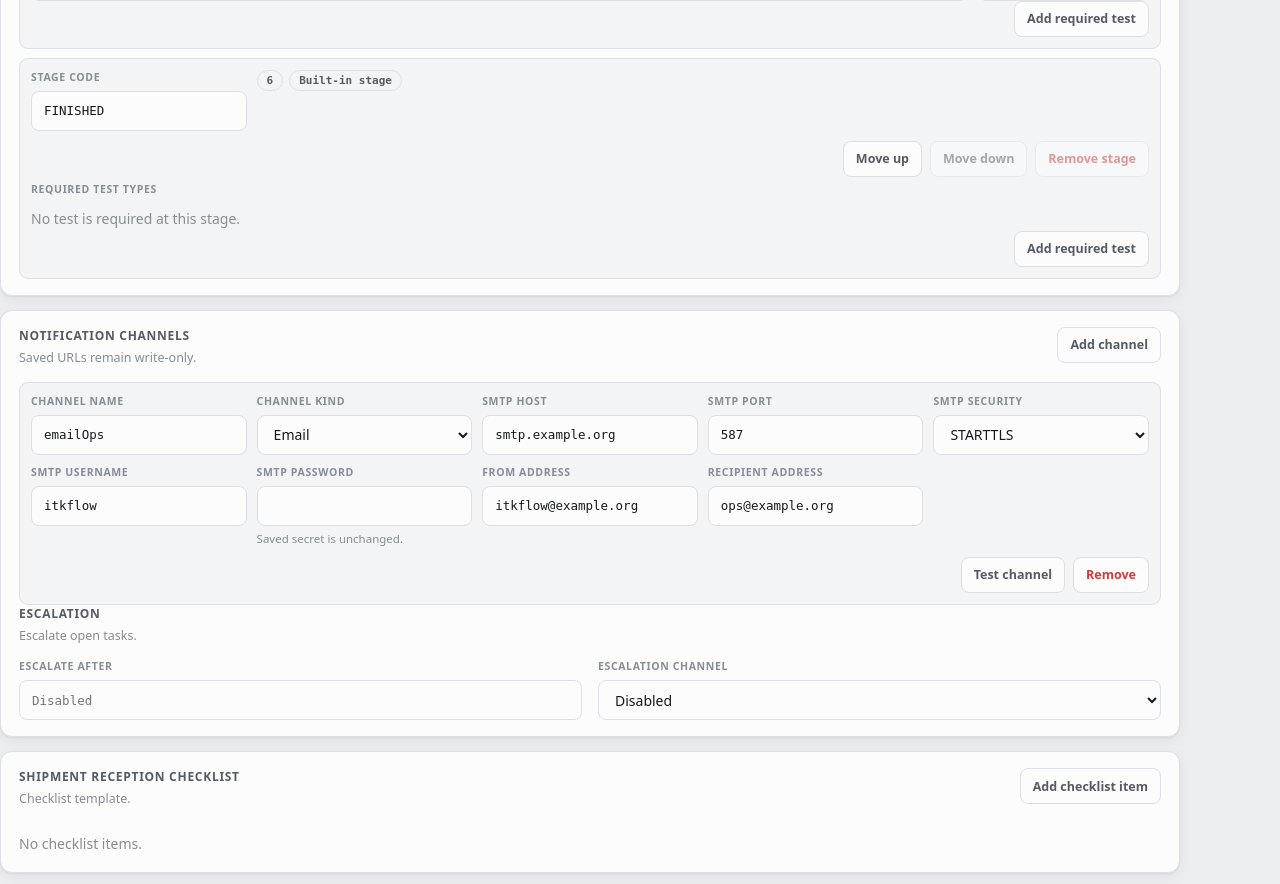
Test: AdminSettingsScreen notification secrets › requires a fresh SMTP password when the saved connection target changes
The width and height of the screenshot is (1280, 884).
(page scrolled)
Replace the text in the field labelled "SMTP host" with "attacker.example.org" at (590, 434), box [482, 414, 698, 454]
(page scrolled)
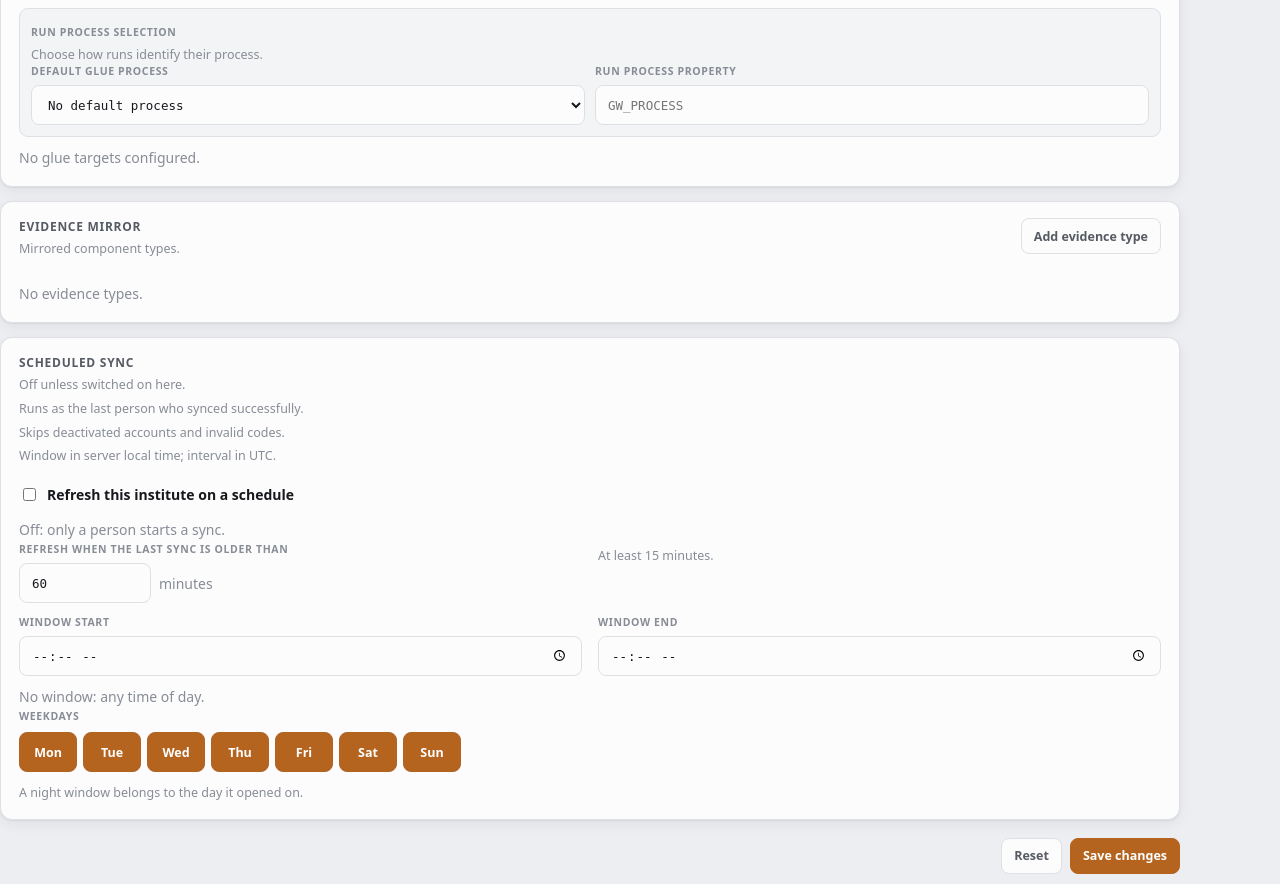
Check: the text "Saved secret is unchanged." is not shown
Click the button "Save changes" at (1125, 856), box [1070, 838, 1180, 874]
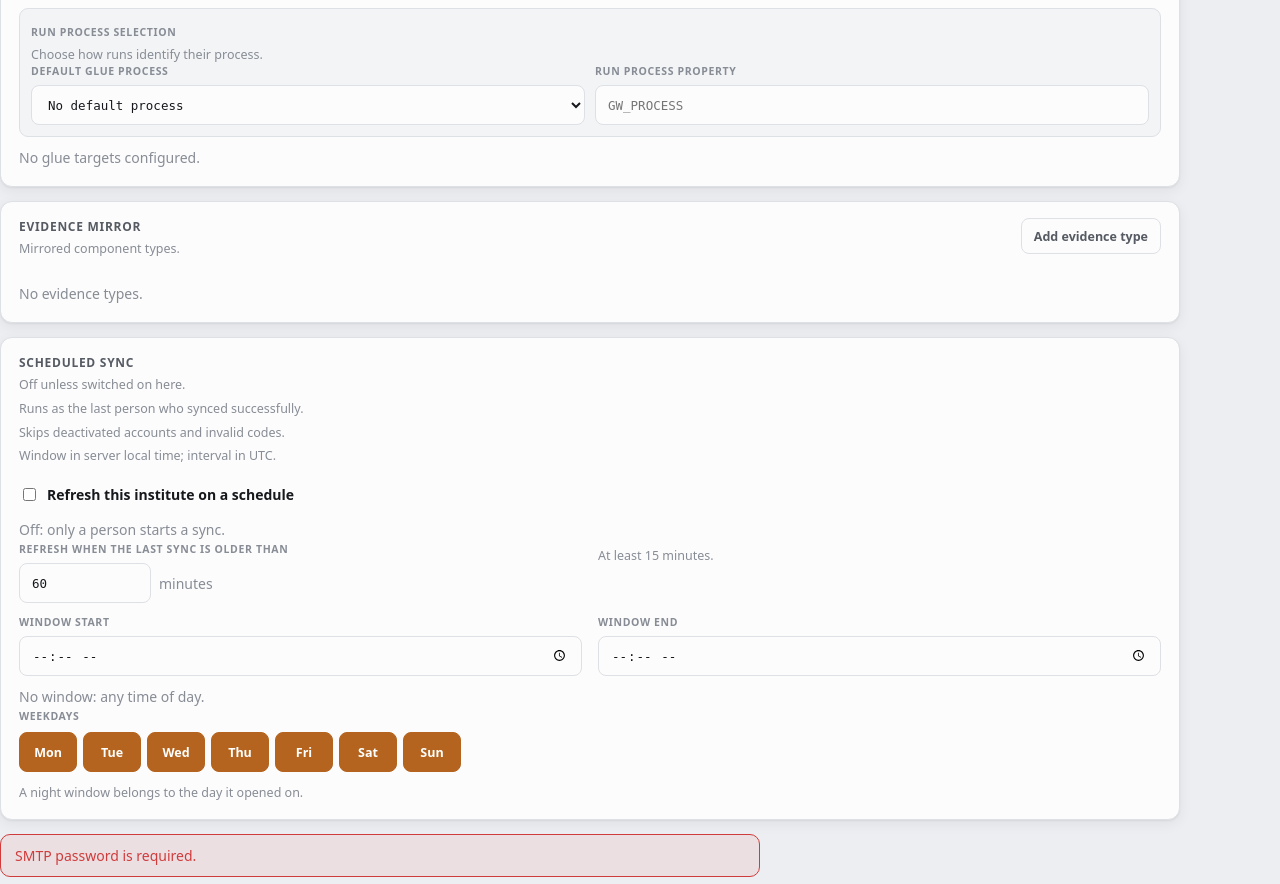
Check: the message reads "SMTP password is required.", box [15, 846, 196, 865]
